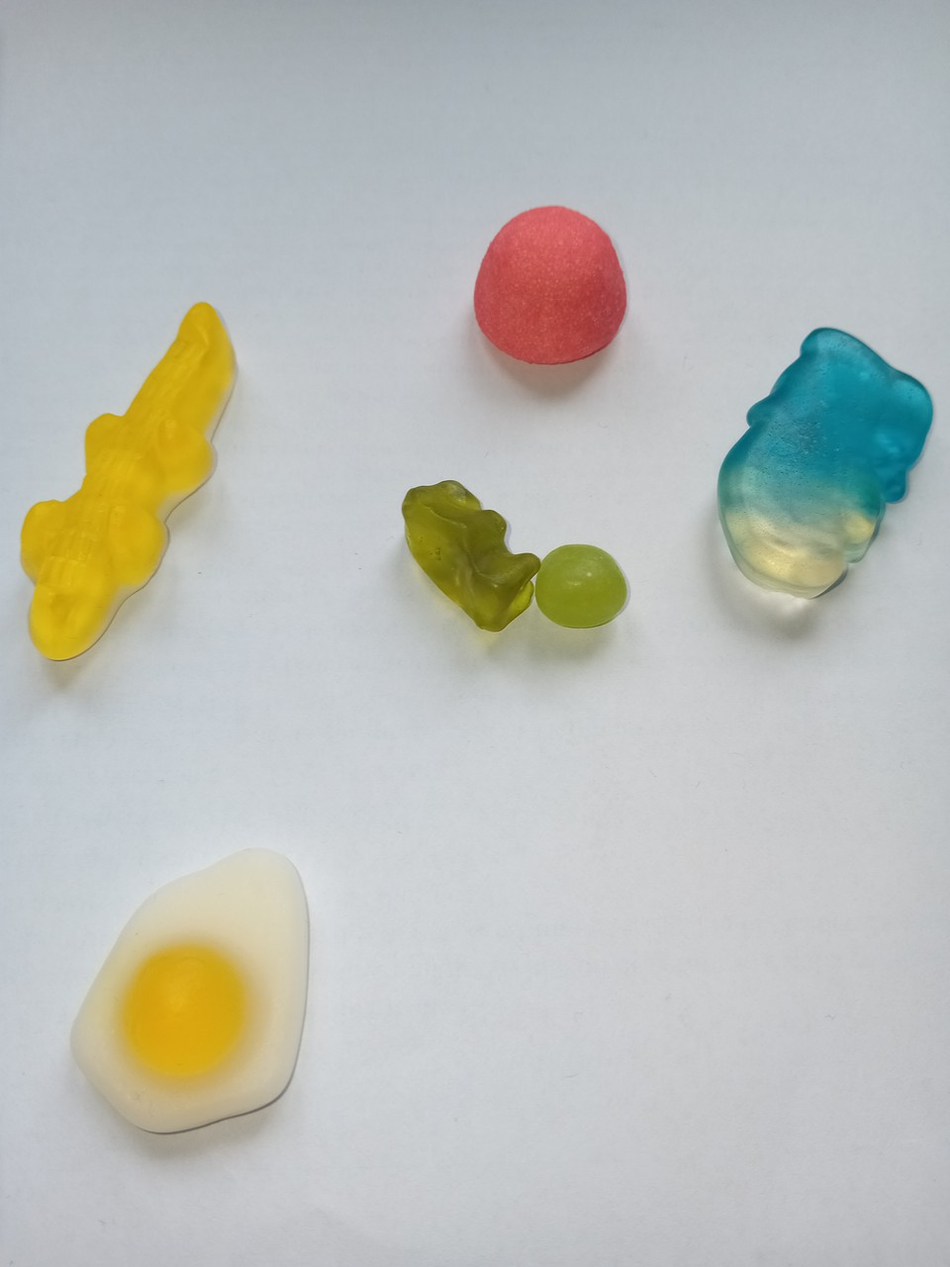crocodile_jaune: (13, 293, 243, 671)
dragibus_vert: (534, 536, 635, 633)
oeuf_oeuf: (56, 837, 333, 1143)
ourson_vert: (392, 475, 540, 635)
schtroumpf_bleu-blanc: (709, 322, 939, 603)
tagada_fraise: (464, 203, 633, 369)
